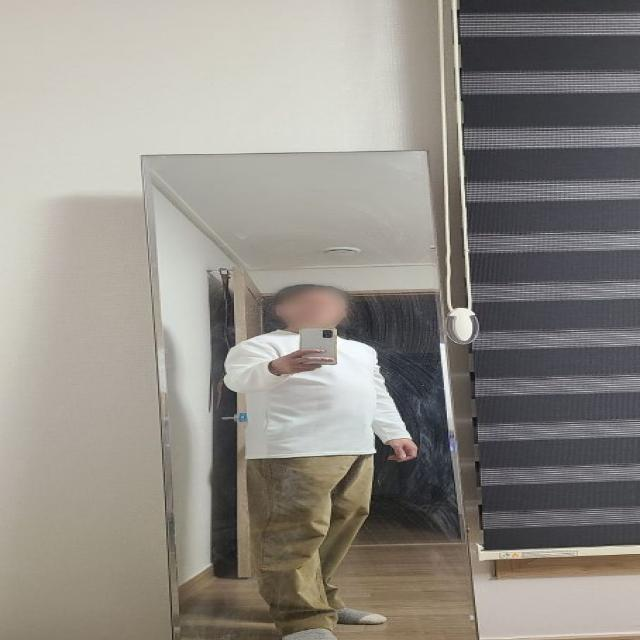cottonpants: (252, 446, 375, 632)
longsleeve: (222, 328, 410, 461)
